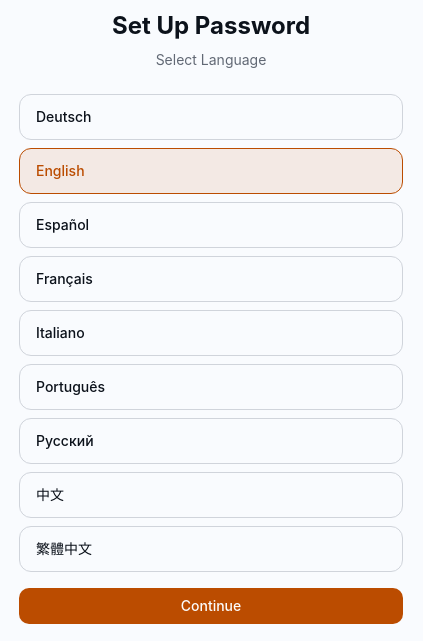
it: SetupPage › password step › returns to language step on "Back" click
Click the button "Continue".
click(211, 606)  # box [19, 588, 403, 624]
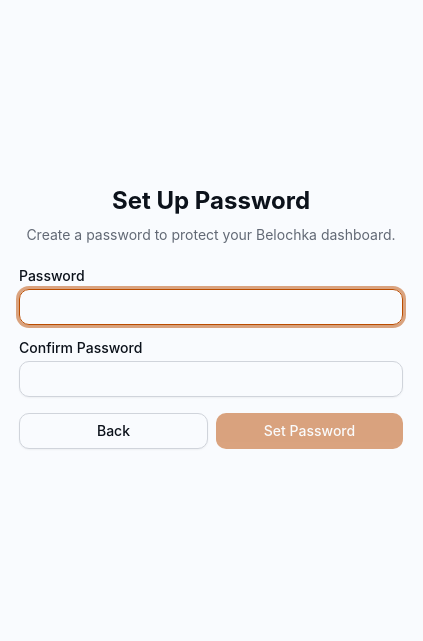
Expected: the password field labelled "Password" is shown, [19, 289, 403, 325]
Click the button "Back".
click(114, 431)  # box [19, 413, 208, 449]
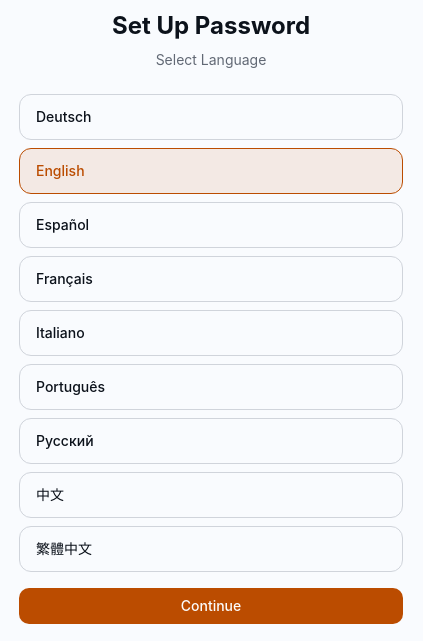
Expected: the button "English" is shown, [19, 148, 403, 194]
